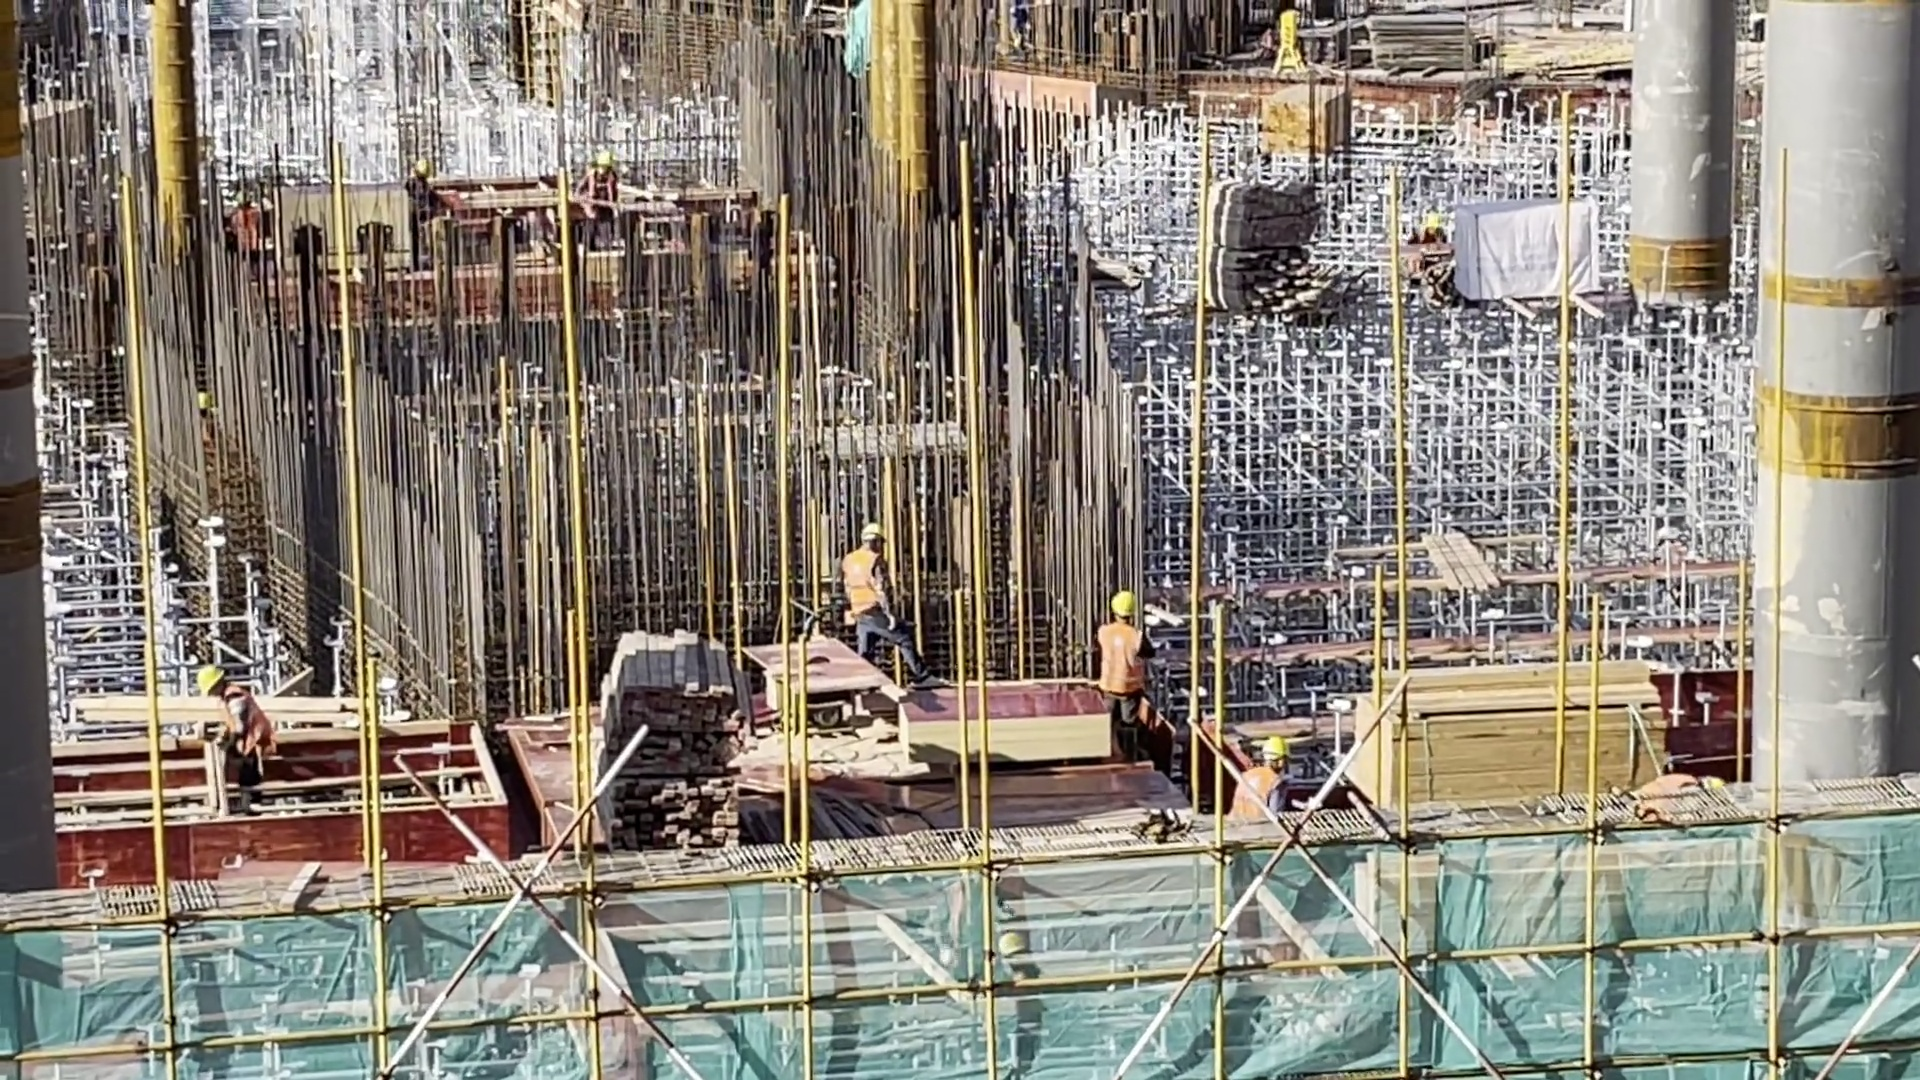board: (901, 685, 1115, 771)
ebox: (1270, 7, 1310, 82)
helmet: (194, 663, 231, 697), (1110, 592, 1140, 621), (1262, 735, 1293, 761), (860, 522, 888, 545), (593, 151, 616, 167), (1425, 210, 1440, 228)
person: (836, 523, 947, 686), (1094, 591, 1159, 766), (193, 659, 280, 786), (1248, 734, 1295, 814), (577, 150, 621, 202), (1407, 210, 1448, 244)
vest: (214, 686, 272, 755)
wood: (1351, 660, 1669, 813), (600, 630, 749, 864), (1256, 81, 1310, 155)
